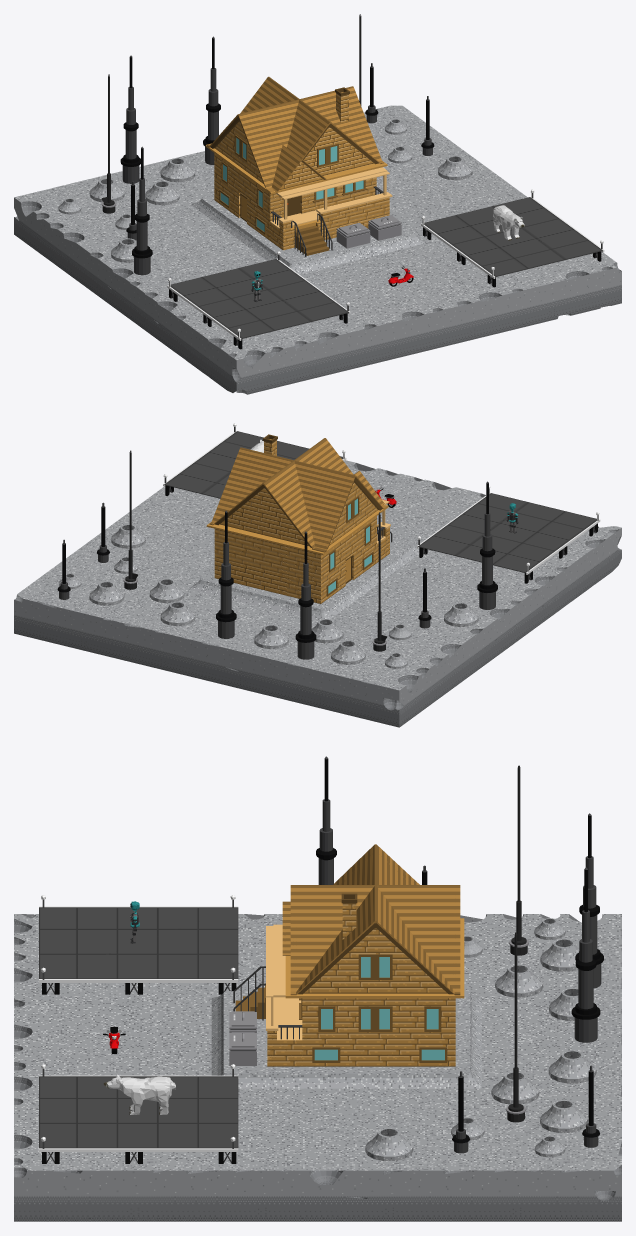
3 views of the same model, one above another, from view 1: azimuth 30°, elevation 25°; view 2: azimuth 150°, elevation 25°; view 3: azimuth 270°, elevation 25° (orthographic). The views are drawn at different scales.
Visible parts, largest first — view 1: Cube.027, Cube.508, Cube.025, Cube.026, Cube.028, Cylinder.020, Cylinder.021, Cylinder.017, ANIMAL_OSO_POLAR, Cube.029, Cube.030, Cylinder.027 (+3 smaller); view 2: Cube.027, Cube.508, Cube.025, Cube.028, Cube.026, Cylinder.020, Cylinder.021, Cylinder.017, Cylinder.031, Cylinder.028, Cylinder.029, Cylinder.030 (+6 smaller); view 3: Cube.027, Cube.508, Cube.025, Cube.026, Cube.028, Cylinder.017, ANIMAL_OSO_POLAR, Cylinder.020, Cylinder.021, Cylinder.033, Cylinder.031, Cylinder.029 (+9 smaller).
Part boxes in pixels (x1=…): Cube.027: x1=14, y1=105, x2=621, y2=394; Cube.508: x1=205, y1=76, x2=392, y2=256; Cube.025: x1=167, y1=251, x2=350, y2=349; Cube.026: x1=421, y1=189, x2=604, y2=287; Cube.028: x1=191, y1=195, x2=424, y2=274; Cylinder.020: x1=120, y1=55, x2=140, y2=183; Cylinder.021: x1=132, y1=146, x2=152, y2=275; Cylinder.017: x1=203, y1=36, x2=220, y2=164; ANIMAL_OSO_POLAR: x1=493, y1=205, x2=524, y2=240; Cube.029: x1=336, y1=222, x2=370, y2=248; Cube.030: x1=368, y1=215, x2=401, y2=240; Cylinder.027: x1=160, y1=158, x2=195, y2=182; Cube.027: x1=14, y1=460, x2=621, y2=727; Cube.508: x1=206, y1=434, x2=392, y2=603; Cube.025: x1=417, y1=485, x2=600, y2=583; Cube.028: x1=190, y1=538, x2=419, y2=620; Cube.026: x1=163, y1=423, x2=346, y2=498; Cylinder.020: x1=295, y1=531, x2=316, y2=659; Cylinder.021: x1=477, y1=481, x2=497, y2=609; Cylinder.017: x1=216, y1=510, x2=236, y2=638; Cylinder.031: x1=89, y1=581, x2=124, y2=605; Cylinder.028: x1=331, y1=640, x2=365, y2=664; Cylinder.029: x1=160, y1=601, x2=195, y2=626; Cylinder.030: x1=149, y1=578, x2=184, y2=603; Cube.027: x1=14, y1=914, x2=621, y2=1221; Cube.508: x1=233, y1=844, x2=464, y2=1066; Cube.025: x1=39, y1=895, x2=238, y2=994; Cube.026: x1=39, y1=1064, x2=238, y2=1163; Cube.028: x1=211, y1=991, x2=481, y2=1088; Cylinder.017: x1=571, y1=867, x2=600, y2=1042; ANIMAL_OSO_POLAR: x1=103, y1=1074, x2=175, y2=1114; Cylinder.020: x1=575, y1=813, x2=603, y2=988; Cylinder.021: x1=316, y1=756, x2=336, y2=884; Cylinder.033: x1=365, y1=1128, x2=413, y2=1160; Cylinder.031: x1=540, y1=1100, x2=587, y2=1132; Cylinder.029: x1=548, y1=1050, x2=596, y2=1083.
Bounding box in the file's own units: 4000 × 1799 × 4000.
36 materials, 5 textured.
